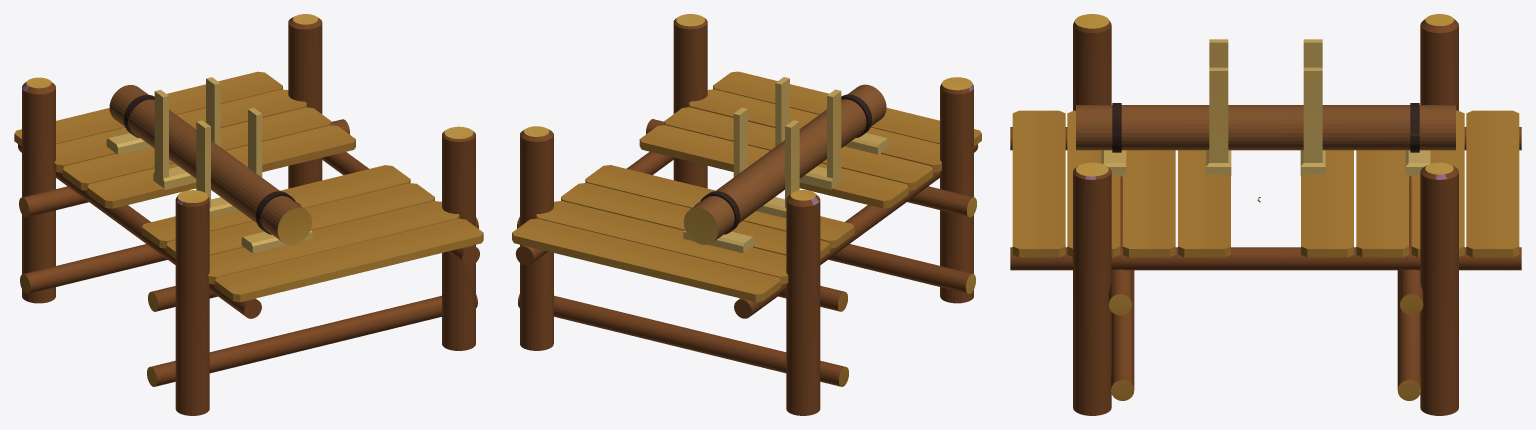
The model's file is Pit_Saw_Station.glb.
The picture shows the model from 3 angles, left to right: view 1: azimuth 30°, elevation 25°; view 2: azimuth 150°, elevation 25°; view 3: azimuth 270°, elevation 25°; orthographic projection. The views are drawn at different scales.
Visible parts, largest first — view 1: Circle, Cube, Circle.001, Cube.001; view 2: Circle, Cube, Circle.001, Cube.001; view 3: Cube, Circle, Circle.001, Cube.001.
Part boxes in pixels (<box>): Circle: <box>18,14,479,415</box>; Cube: <box>14,71,483,301</box>; Circle.001: <box>109,85,312,244</box>; Cube.001: <box>106,77,312,253</box>; Circle: <box>515,14,978,415</box>; Cube: <box>512,71,981,301</box>; Circle.001: <box>683,84,886,244</box>; Cube.001: <box>683,77,889,253</box>; Cube: <box>1012,110,1519,257</box>; Circle: <box>1010,14,1521,415</box>; Circle.001: <box>1076,103,1455,152</box>; Cube.001: <box>1101,39,1430,176</box>.
Size of the model in its own units: 4.82 by 3.26 by 5.89.
Materials: 2 (2 with a texture image).
